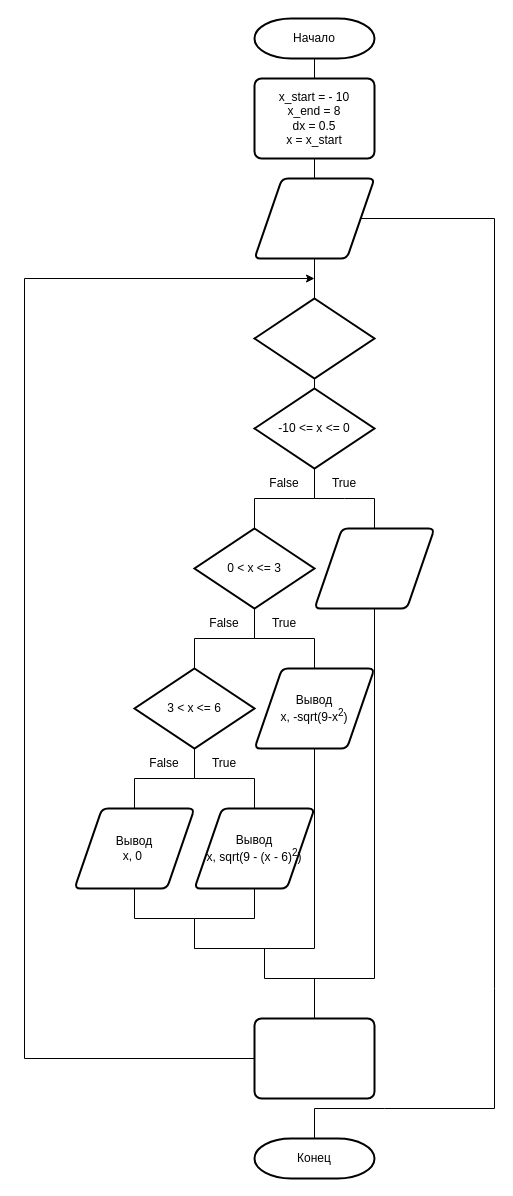
Image size: 513x1196. Some labels were removed from this diagram. Here are the shapes that lost their labels. From the top down, the centre of each, then its label:
the point at 314,218: Вывод x | y
the point at 314,338: x <= x_end
the point at 374,568: Вывод x, -0.5x - 3
the point at 314,1058: x = x + dx
